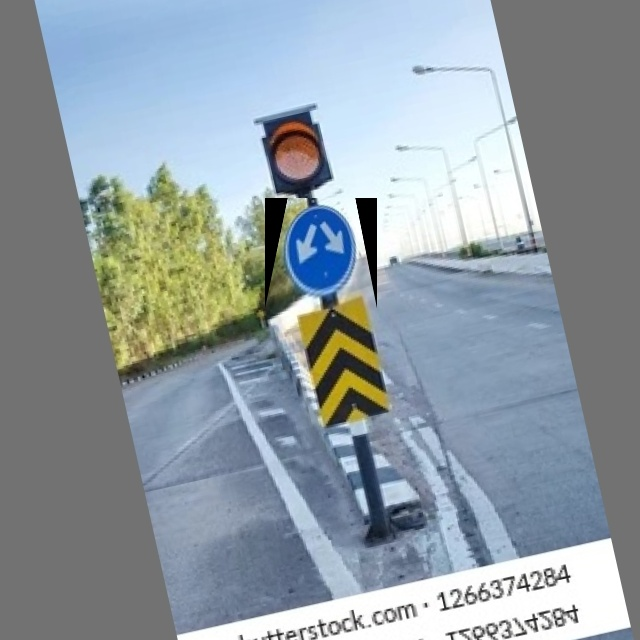Pass_Either_Side: (265, 198, 377, 309)
